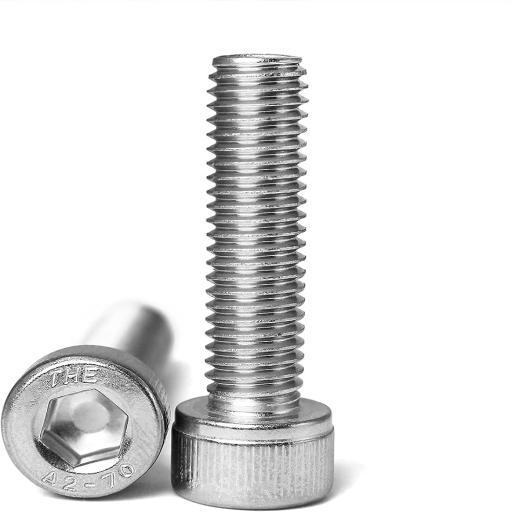Hex-Allen: (2, 346, 167, 500)
